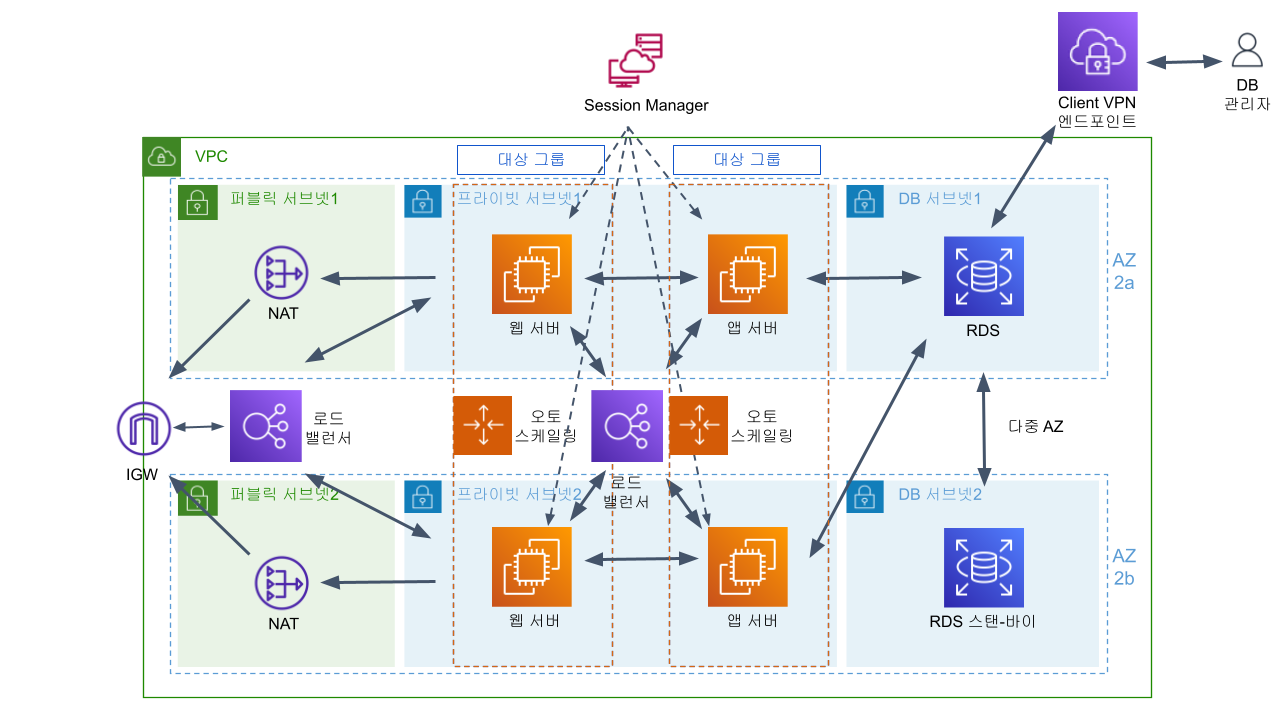auto scaling: (453, 395, 512, 456), (671, 400, 728, 454)
ec2: (708, 528, 786, 608), (708, 237, 788, 314), (495, 528, 570, 606), (494, 237, 570, 312)
elb: (231, 393, 303, 462), (594, 393, 662, 459)
rds: (946, 530, 1023, 608), (944, 238, 1022, 312)
vpc: (146, 140, 182, 176)
